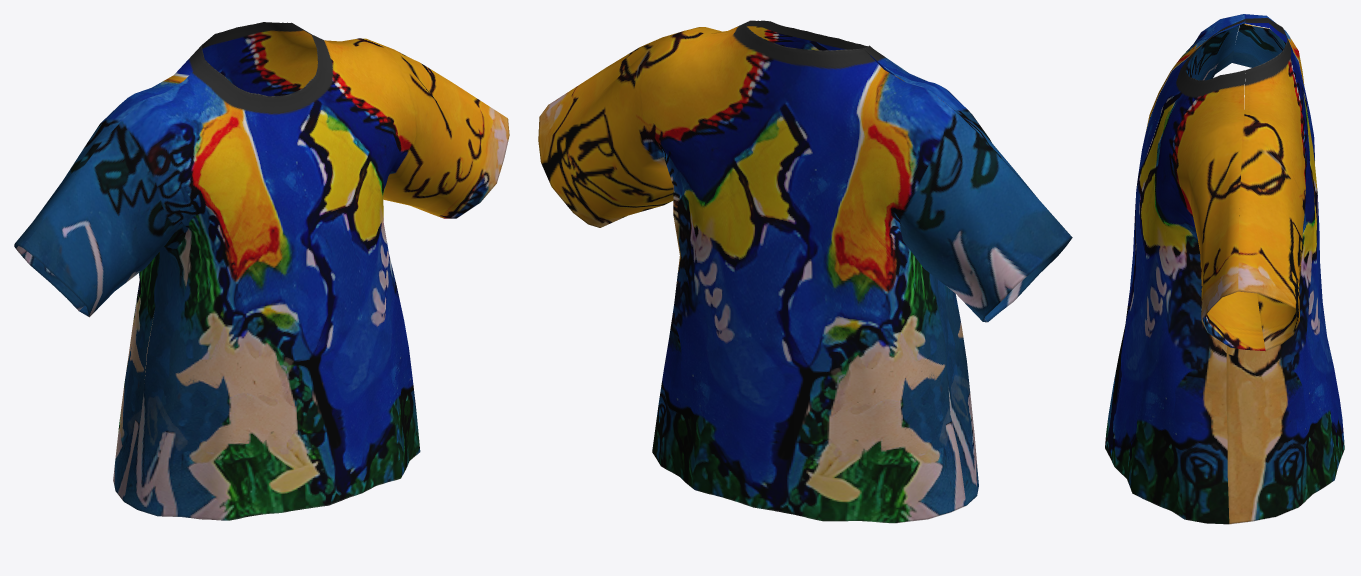
Rendered from tshirt_apose.glb.
3 renders of one model, left to right at view 1: azimuth 30°, elevation 25°; view 2: azimuth 150°, elevation 25°; view 3: azimuth 270°, elevation 25°, orthographic. The views are drawn at different scales.
Parts seen in each view (by area): view 1: tshirt_apose; view 2: tshirt_apose; view 3: tshirt_apose.
Boxes of the visible parts, bbox=[...] form: tshirt_apose: bbox=[14, 22, 509, 520]; tshirt_apose: bbox=[538, 20, 1072, 523]; tshirt_apose: bbox=[1105, 14, 1344, 524].
Size of the model in its own units: 0.7679 by 0.704 by 0.3368.
Materials: 1 (1 with a texture image).
